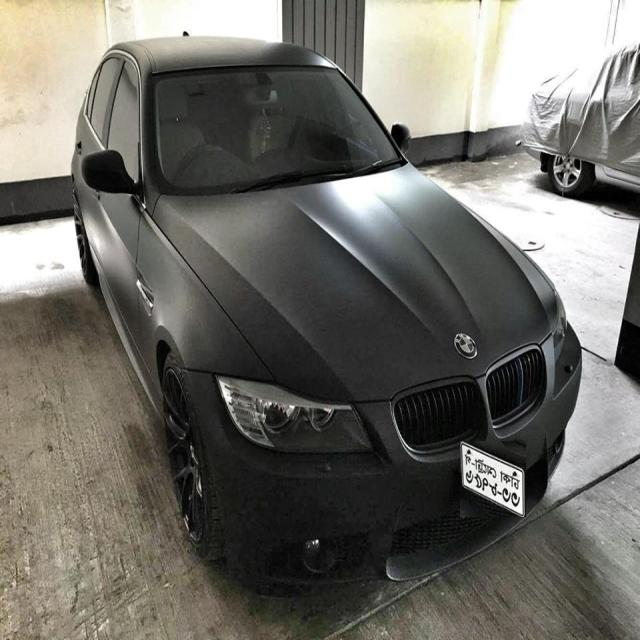numberplate: (460, 441, 526, 517)
